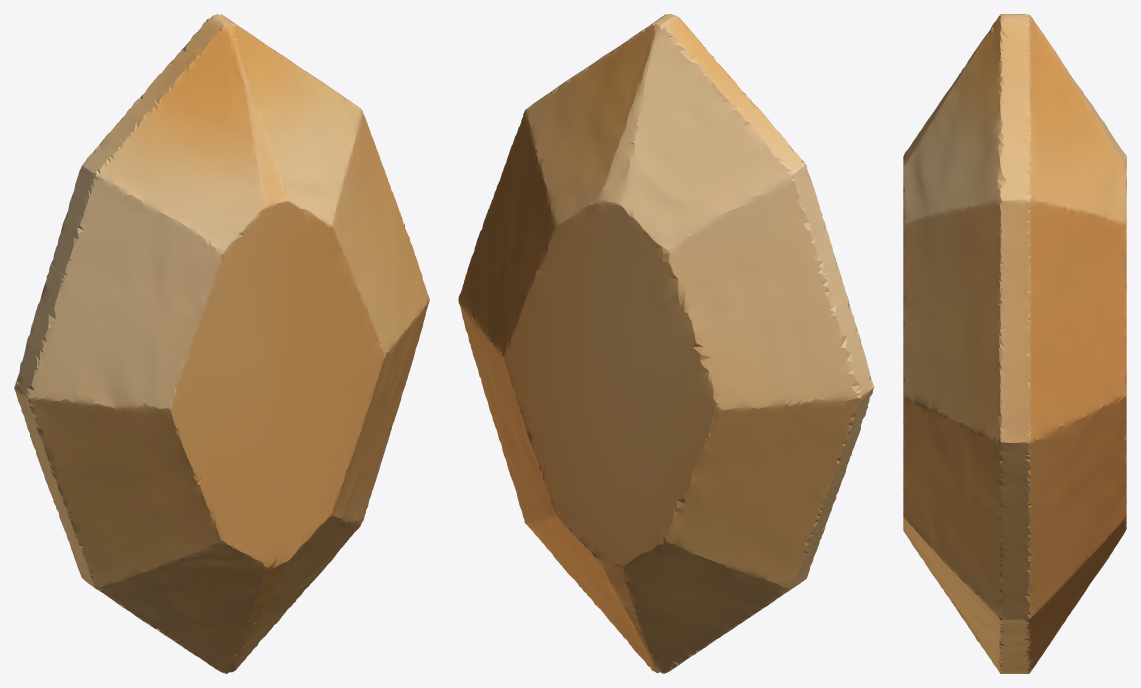
File: core_gold.glb
The picture shows the model from 3 angles, left to right: view 1: azimuth 30°, elevation 25°; view 2: azimuth 150°, elevation 25°; view 3: azimuth 270°, elevation 25°; orthographic projection.
Visible parts, largest first — view 1: core_gold; view 2: core_gold; view 3: core_gold.
Boxes of the visible parts, x1,y1,x2,y2 form: core_gold: (14, 14, 429, 673); core_gold: (458, 14, 874, 673); core_gold: (903, 14, 1126, 673).
Size of the model in its own units: 0.6493 by 1 by 0.3087.
Materials: 1 (1 with a texture image).
